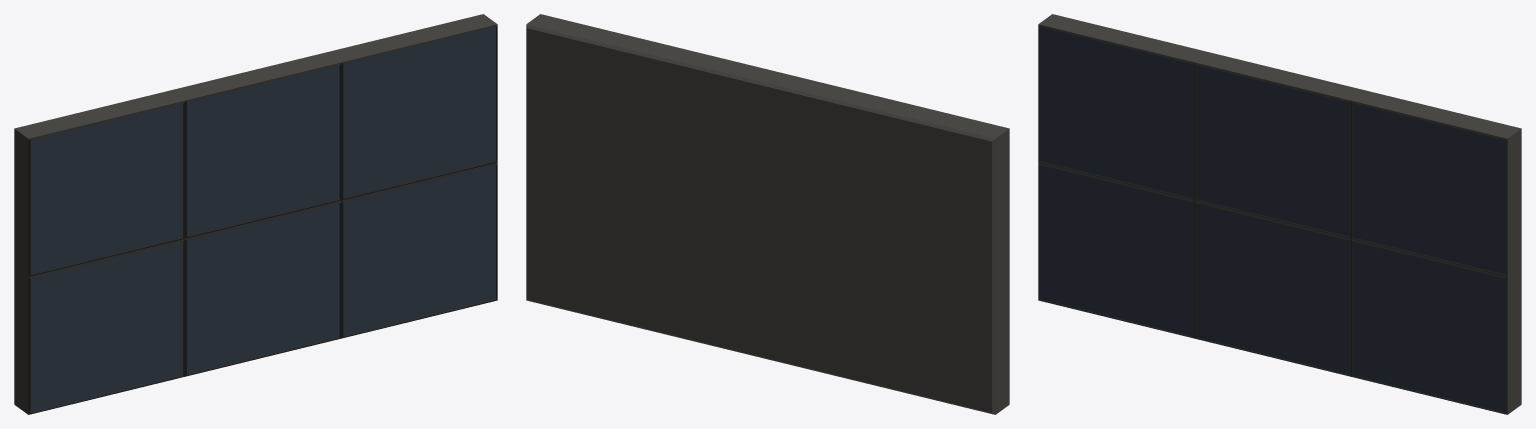
The model's file is video_wall.glb.
3 views of the same model, side by side, from view 1: azimuth 30°, elevation 25°; view 2: azimuth 150°, elevation 25°; view 3: azimuth 330°, elevation 25° (orthographic).
Visible parts, largest first — view 1: mesh_0; view 2: mesh_0; view 3: mesh_0.
Part boxes in pixels (x1,y1,x2,y2): mesh_0: (14,14,497,414); mesh_0: (526,14,1009,414); mesh_0: (1038,14,1521,414).
Size of the model in its own units: 2 by 1.12 by 0.12.
